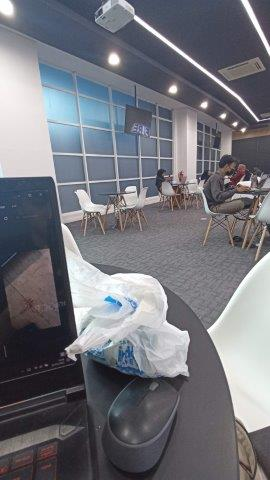plastik: (65, 251, 190, 377)
